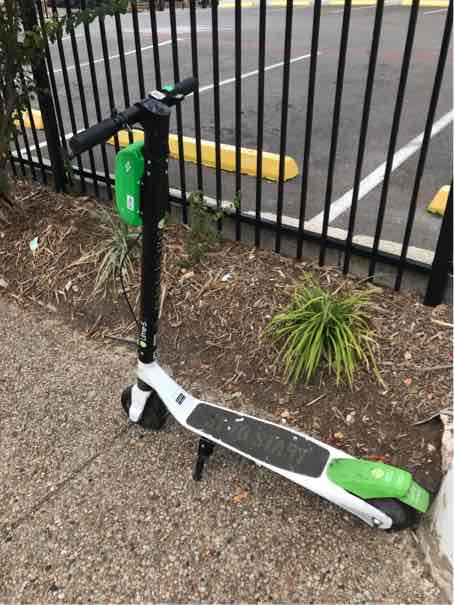scooter: (72, 82, 436, 581)
